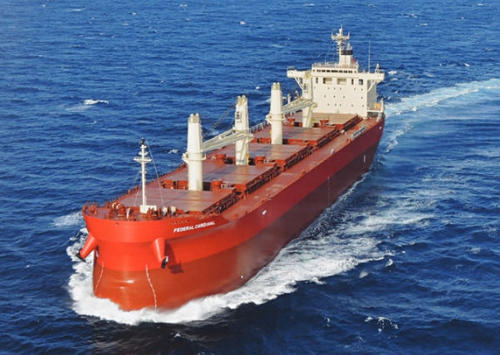Cargoship: (68, 28, 400, 317)
